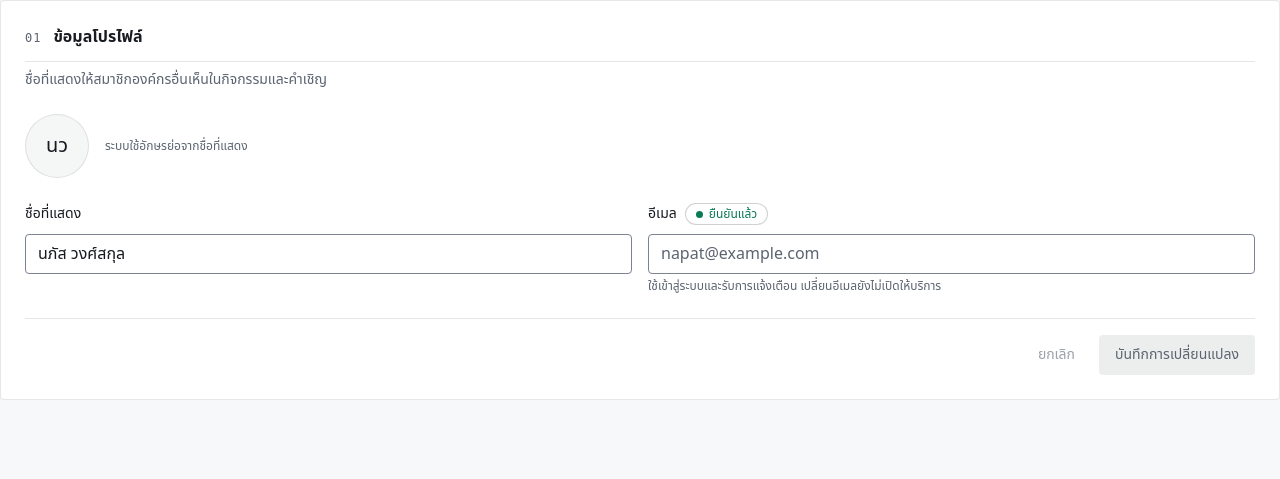
ProfilePage › saves exactly { name }, invalidates me/context, and the avatar follows
The width and height of the screenshot is (1280, 479).
Replace the text in the field with test id "profile-name" with "  ปวีณา ยอดเยี่ยม ": (328, 254) [25,234,632,274]
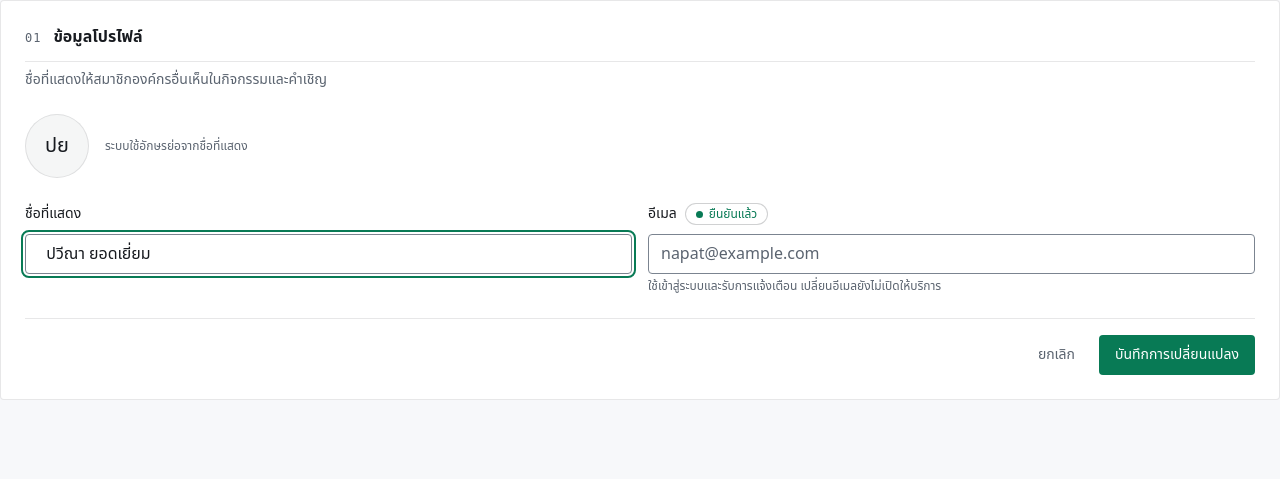
expect the text with test id "profile-avatar" reads "ปย": met, box [45,131,69,161]
Click the button with test id "profile-save": click(1177, 355) [1099,335,1255,375]
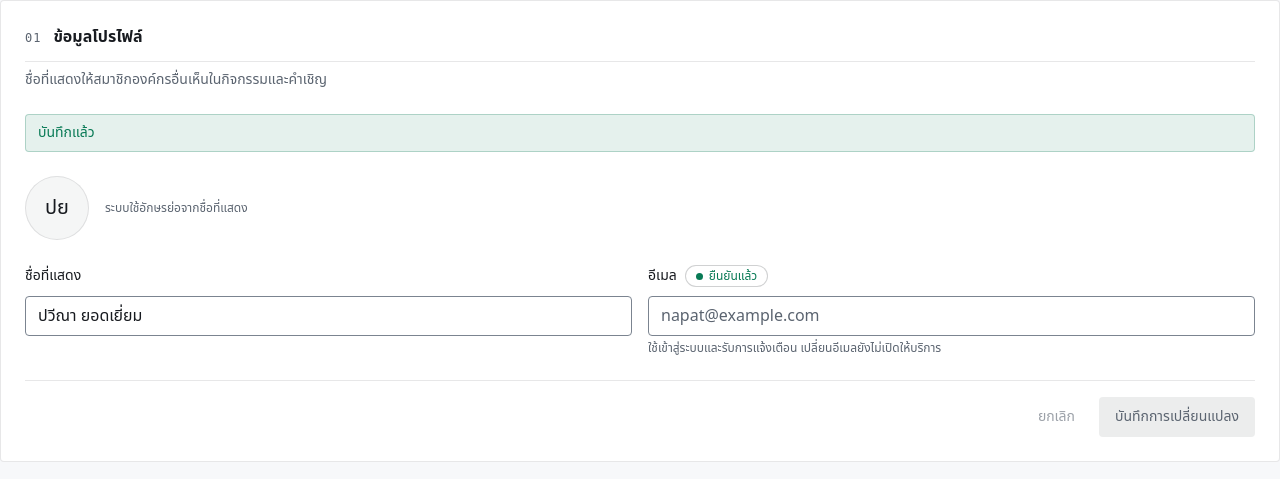
expect the message "บันทึกแล้ว" is shown: met, box [25,114,1255,152]
